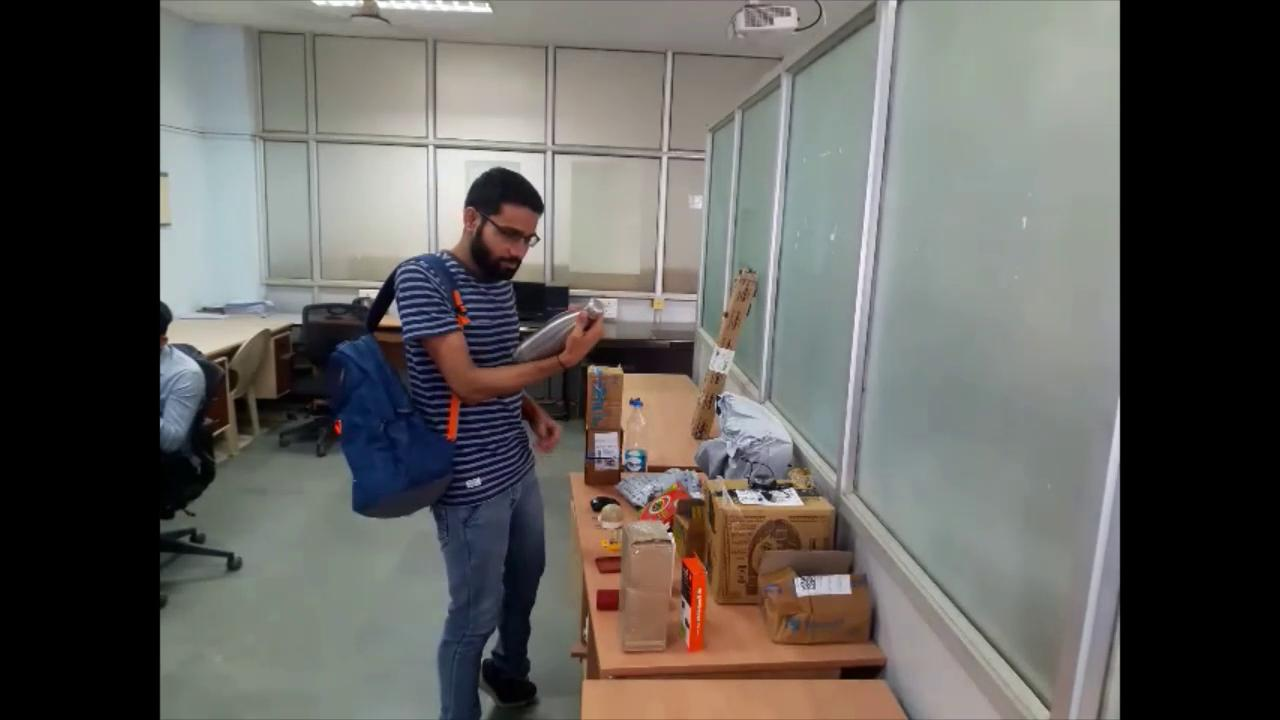Normal: (321, 167, 610, 720)
